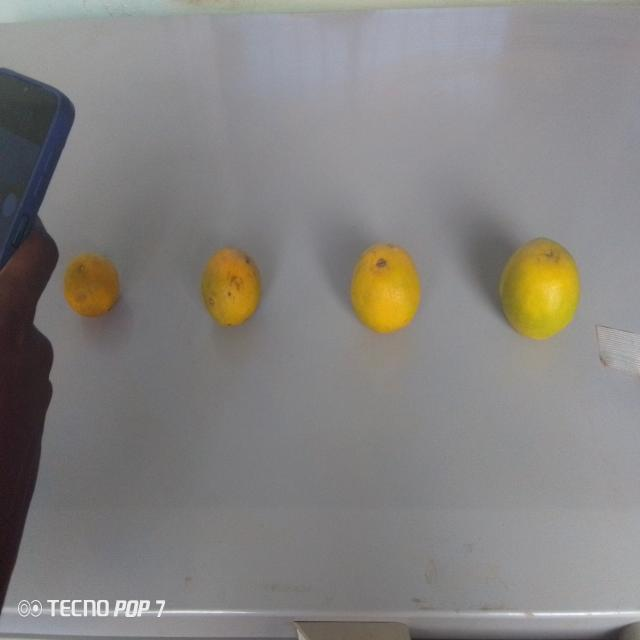Ripe orange: (495, 234, 584, 348), (348, 237, 427, 341), (193, 243, 266, 330), (64, 256, 118, 322)
